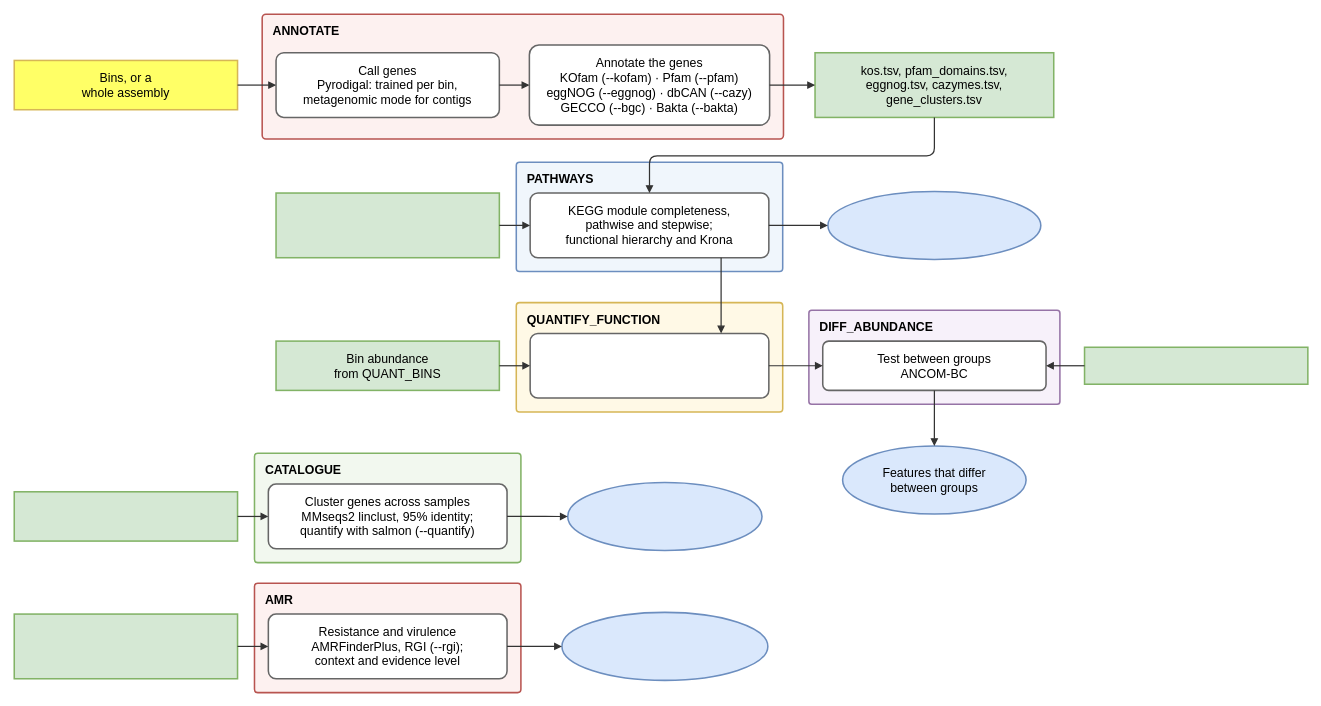
The diagram is 1321 pixels wide and 706 high, and some of its shapes have lost their labels. The centre of each missing label's shape, as x and y in pixels:
amr.tsv, virulence.tsv, harmonised tables: [664,646]
ANNOTATE outputs from every sample, and reads: [125,516]
Bins or assembly; geNomad results from VIRUSES (optional): [125,646]
Gene catalogue and gene abundance: [664,516]
KO and pathway abundance per sample, with the assignable fraction: [649,365]
modules.tsv, hierarchy tables, Krona charts: [934,225]
Optional weighting bin abundance (-a), contig depth (-C), gene abundance (-G): [387,225]
Sample groups: [1195,365]
